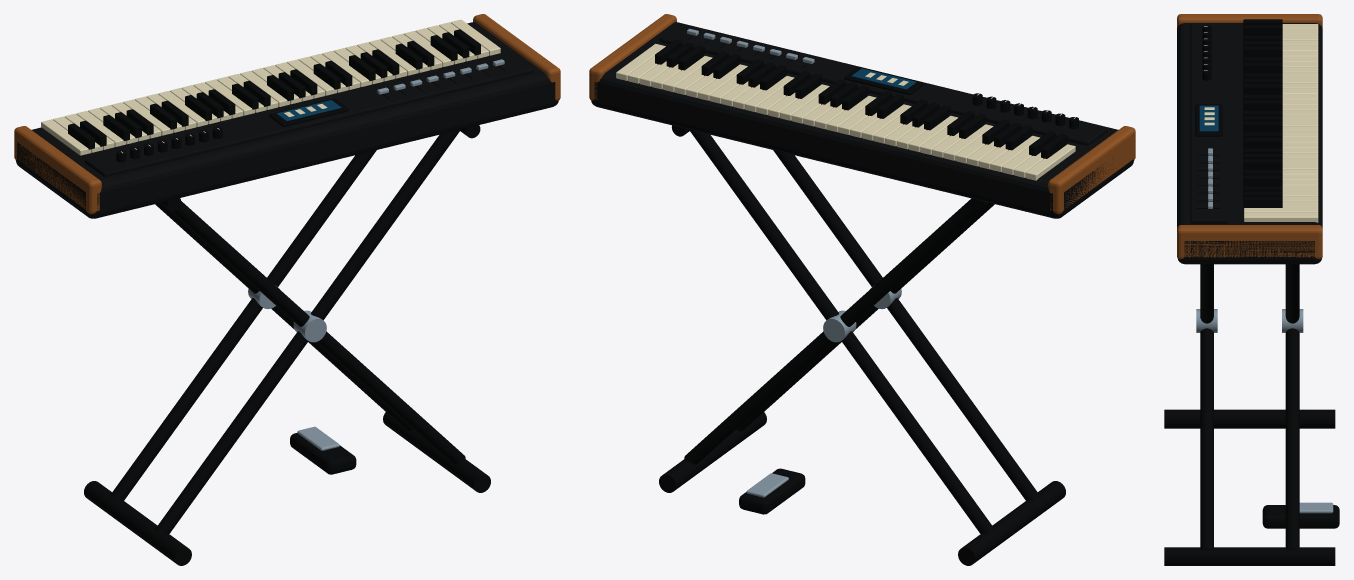
File: Keyboard.obj
The picture shows the model from 3 angles, left to right: view 1: azimuth 30°, elevation 25°; view 2: azimuth 150°, elevation 25°; view 3: azimuth 270°, elevation 25°; orthographic projection. The views are drawn at different scales.
Parts seen in each view (by area): view 1: Stage_piano_chassis, Control_panel, Double_X_stand.002, Double_X_stand, Double_X_stand.003, Walnut_end_cheek, Stand_foot, Double_X_stand.001, Stand_foot.001, Walnut_end_cheek.001, Sustain_pedal; view 2: Stage_piano_chassis, Double_X_stand, Control_panel, Double_X_stand.002, Double_X_stand.001, Walnut_end_cheek, Stand_foot, Double_X_stand.003, Stand_foot.001, Walnut_end_cheek.001, Sustain_pedal, White_key_00; view 3: Stage_piano_chassis, Control_panel, Walnut_end_cheek.001, Double_X_stand.001, Stand_foot.001, Double_X_stand.003, Stand_foot, Sustain_pedal, Walnut_end_cheek, Double_X_stand, Double_X_stand.002, White_key_35 (+32 smaller).
Boxes of the visible parts, x1=… form: Stage_piano_chassis: x1=15, y1=22, x2=558, y2=218; Control_panel: x1=84, y1=55, x2=532, y2=177; Double_X_stand.002: x1=155, y1=130, x2=459, y2=534; Double_X_stand: x1=109, y1=150, x2=376, y2=500; Double_X_stand.003: x1=171, y1=201, x2=465, y2=464; Walnut_end_cheek: x1=14, y1=126, x2=101, y2=214; Stand_foot: x1=84, y1=481, x2=191, y2=565; Double_X_stand.001: x1=155, y1=203, x2=413, y2=431; Stand_foot.001: x1=383, y1=412, x2=490, y2=492; Walnut_end_cheek.001: x1=473, y1=14, x2=560, y2=100; Sustain_pedal: x1=290, y1=433, x2=356, y2=474; Stage_piano_chassis: x1=591, y1=22, x2=1134, y2=218; Double_X_stand: x1=690, y1=130, x2=994, y2=534; Control_panel: x1=659, y1=23, x2=1107, y2=145; Double_X_stand.002: x1=773, y1=150, x2=1040, y2=500; Double_X_stand.001: x1=684, y1=199, x2=979, y2=464; Walnut_end_cheek: x1=1048, y1=126, x2=1135, y2=214; Stand_foot: x1=958, y1=481, x2=1065, y2=565; Double_X_stand.003: x1=736, y1=203, x2=994, y2=431; Stand_foot.001: x1=659, y1=412, x2=766, y2=492; Walnut_end_cheek.001: x1=589, y1=14, x2=676, y2=100; Sustain_pedal: x1=739, y1=468, x2=805, y2=514; White_key_00: x1=1025, y1=144, x2=1075, y2=180; Stage_piano_chassis: x1=1177, y1=23, x2=1322, y2=264; Control_panel: x1=1190, y1=23, x2=1228, y2=223; Walnut_end_cheek.001: x1=1177, y1=225, x2=1322, y2=259; Double_X_stand.001: x1=1285, y1=328, x2=1299, y2=549; Stand_foot.001: x1=1164, y1=547, x2=1335, y2=565; Double_X_stand.003: x1=1200, y1=328, x2=1213, y2=549; Stand_foot: x1=1164, y1=409, x2=1335, y2=428; Sustain_pedal: x1=1262, y1=505, x2=1339, y2=528; Walnut_end_cheek: x1=1177, y1=14, x2=1322, y2=27; Double_X_stand: x1=1285, y1=264, x2=1299, y2=323; Double_X_stand.002: x1=1200, y1=264, x2=1213, y2=323; White_key_35: x1=1244, y1=212, x2=1318, y2=222.
Size of the model in its own units: 1.2 by 0.9905 by 0.41.
